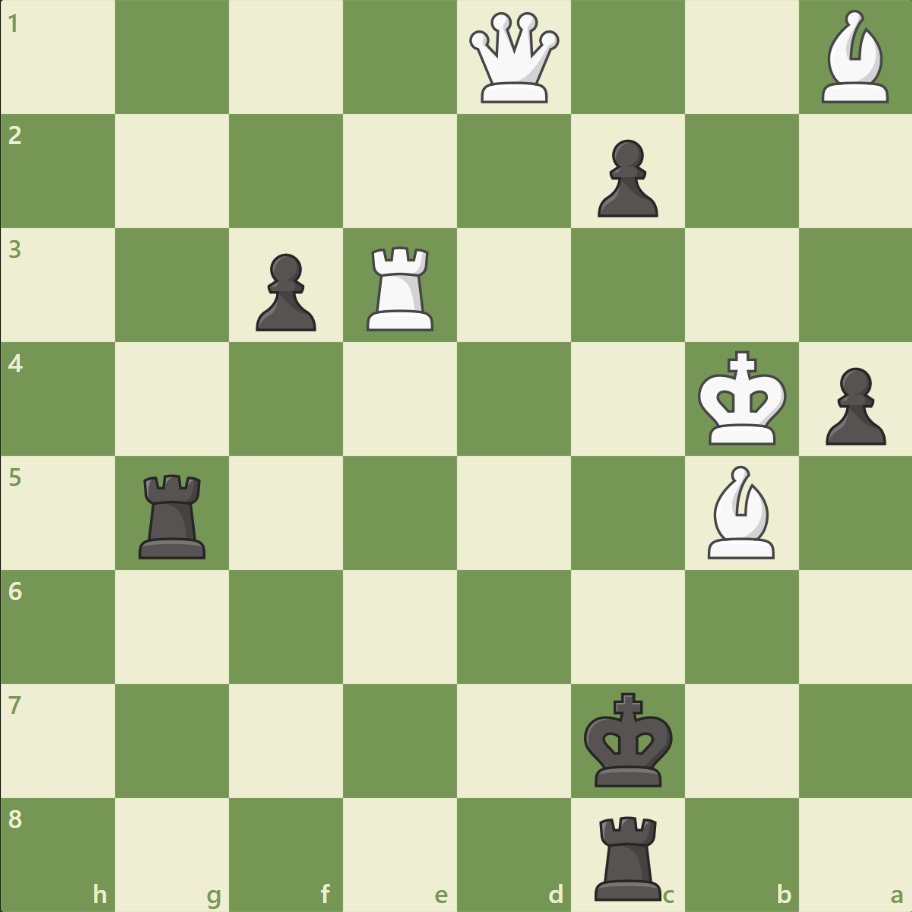B: (698, 460, 782, 563), (812, 6, 896, 109)
K: (692, 344, 792, 452)
Q: (464, 9, 563, 108)
R: (360, 239, 442, 336)
k: (579, 685, 679, 793)
p: (247, 246, 322, 337), (815, 359, 889, 450), (588, 132, 662, 223)
r: (587, 806, 670, 904), (133, 466, 215, 563)
